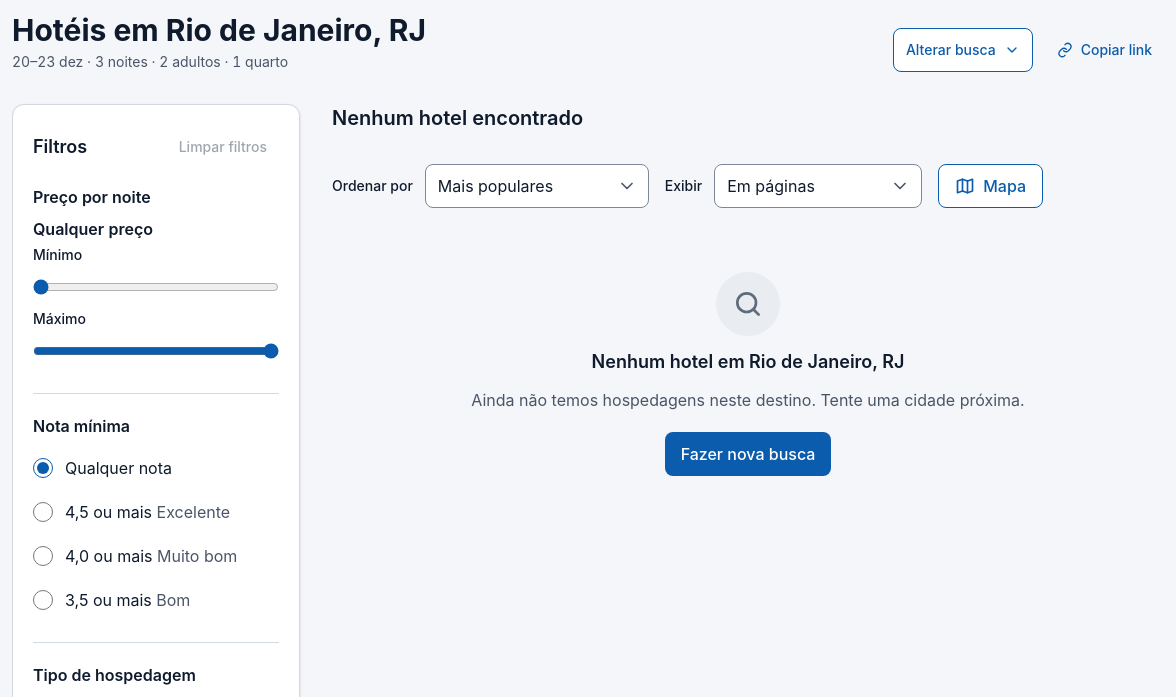
SearchPage: modos › 'Alterar busca' abre o SearchForm preenchido sem buscas recentes
Click the button "Alterar busca". click: (963, 50)
box: [893,28,1033,72]
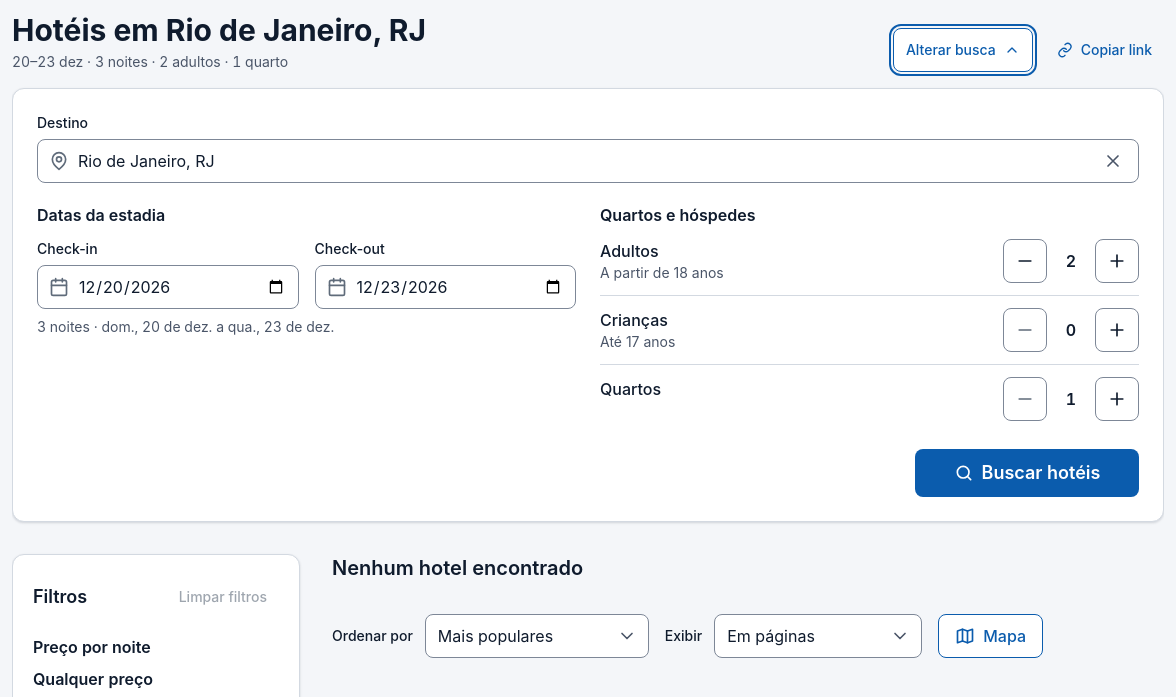
Expected: the dropdown labelled "Destino" holds "Rio de Janeiro, RJ", [37,139,1139,183]
